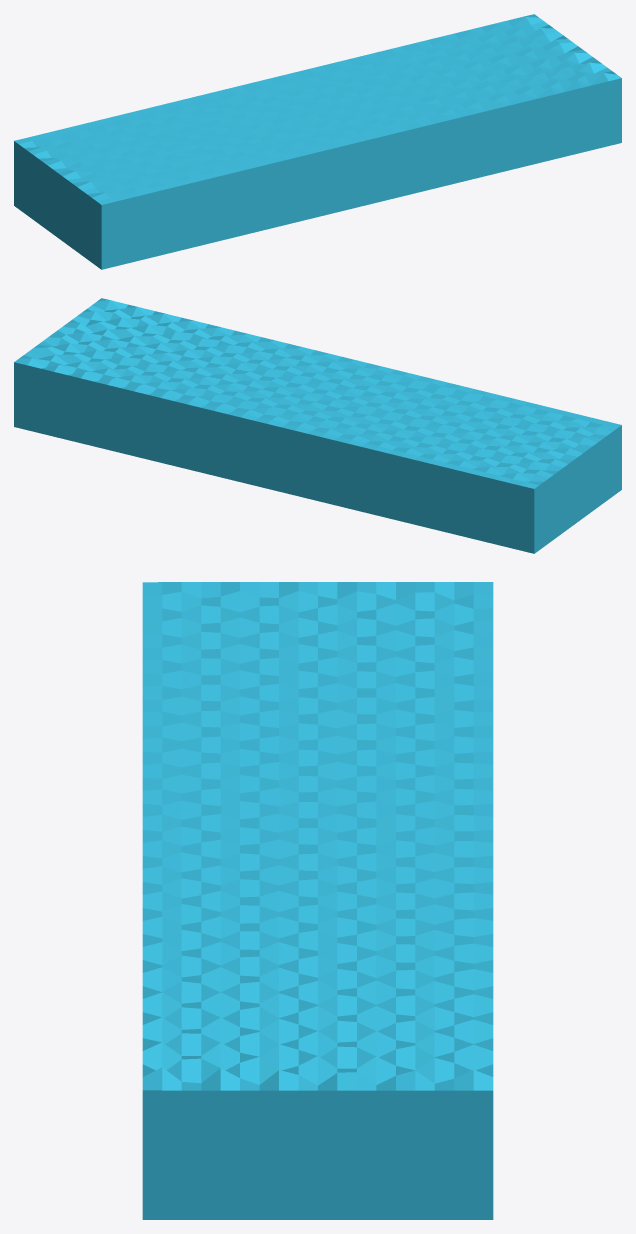
File: Water.FBX
The picture shows the model from 3 angles, top to bottom: view 1: azimuth 30°, elevation 25°; view 2: azimuth 150°, elevation 25°; view 3: azimuth 270°, elevation 25°; orthographic projection. The views are drawn at different scales.
Visible parts, largest first — view 1: Water; view 2: Water; view 3: Water.
Part boxes in pixels (box(x1,y1,x2,y2)): Water: box(14, 14, 621, 269); Water: box(14, 298, 621, 553); Water: box(142, 582, 493, 1219).
Size of the model in its own units: 4312 by 553 by 1257.
